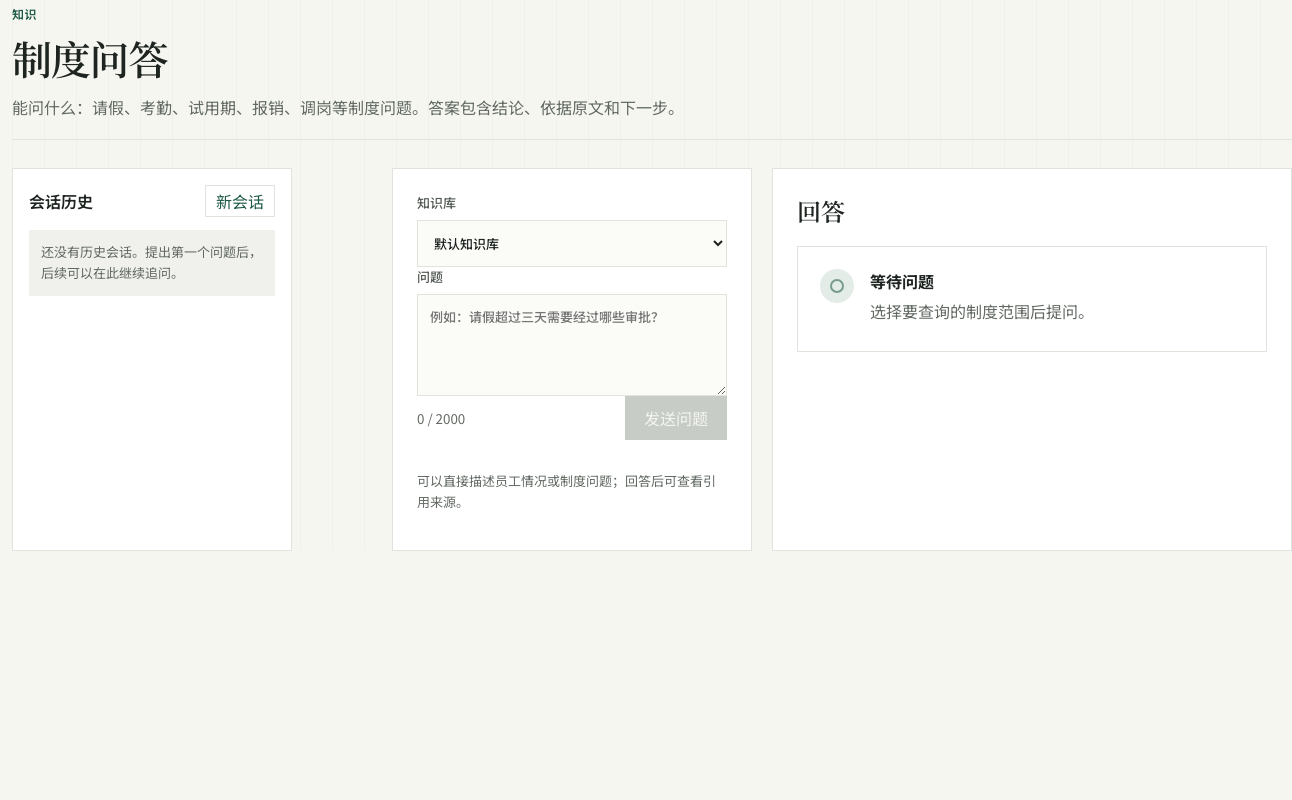
Test: policy QA feedback chain (audit P1-6) › feedback failure shows a visible error instead of a fake 已记录
This screenshot has width=1292, height=800.
Step 1. Type "年假有几天？" into the text box labelled "问题" → coordinates (572, 345), box [417,294,727,396]
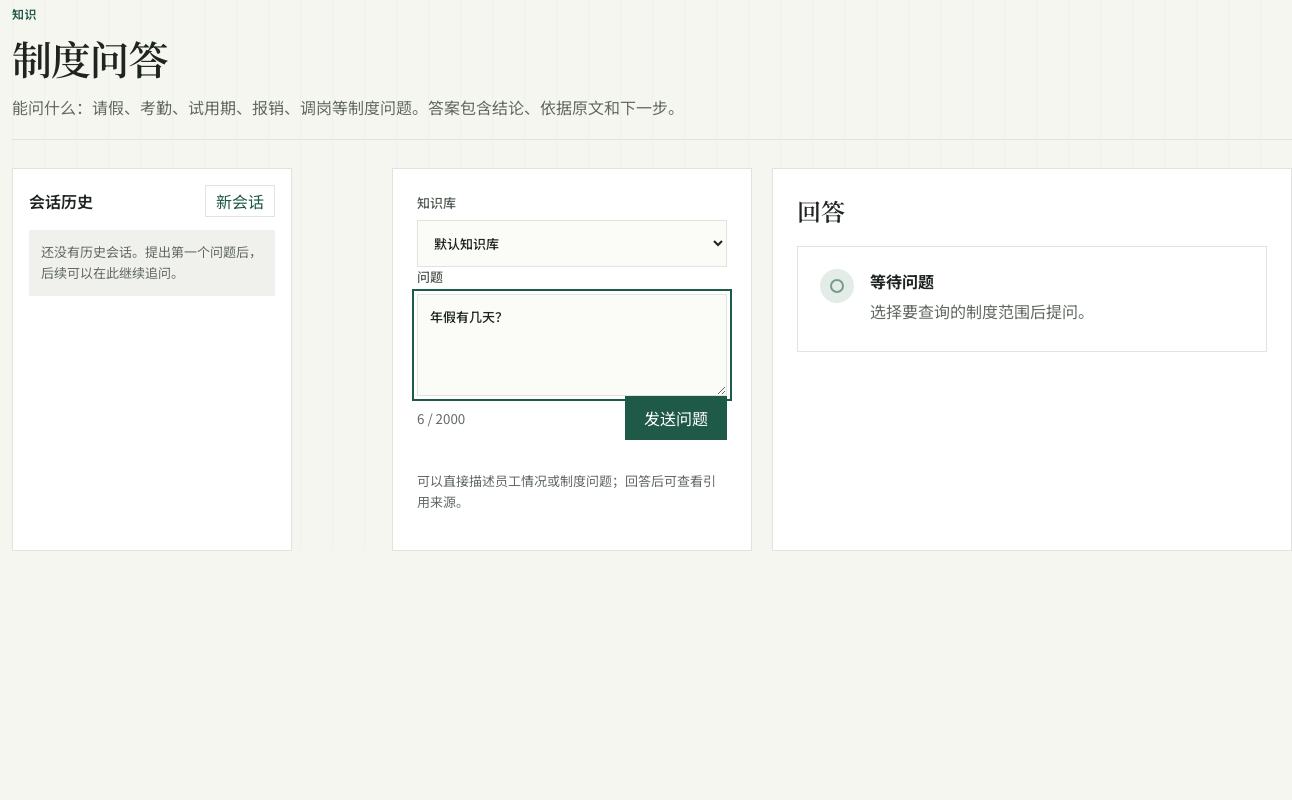
Step 2. Click the button "发送问题" → coordinates (676, 418), box [625,396,727,440]
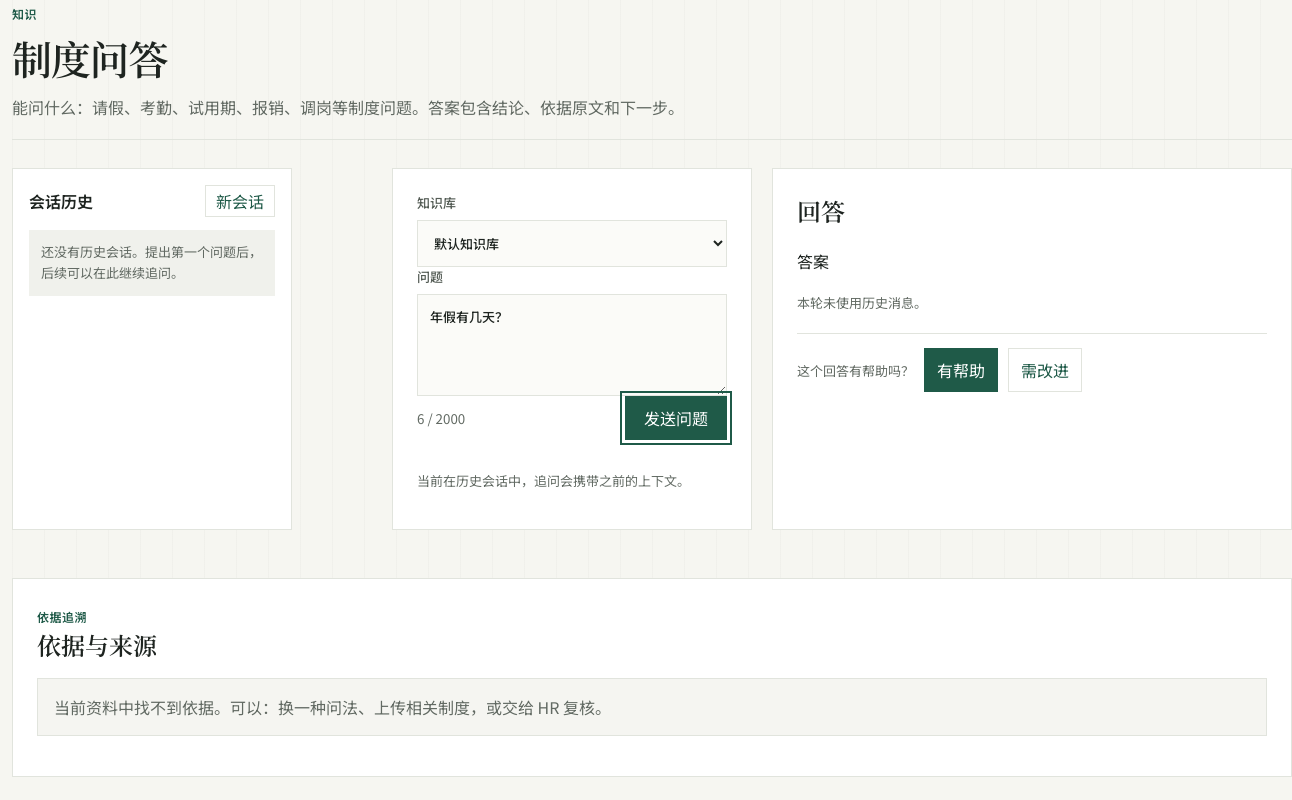
Now the button "有帮助" is shown
Step 3. Click the button "有帮助" → coordinates (961, 370), box [924,348,998,392]
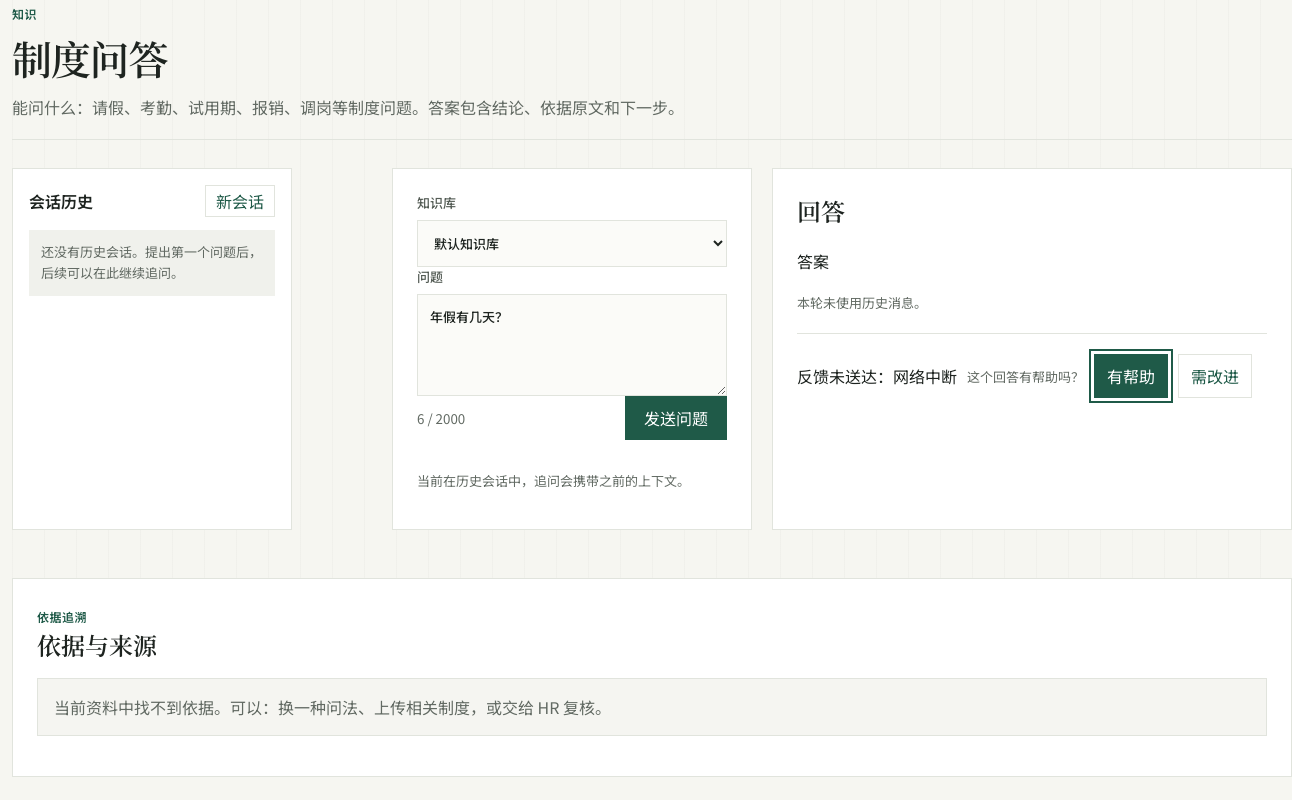
Now the text "反馈未送达：网络中断" is shown, box [797,364,957,388]
